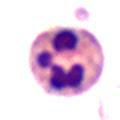neutrophil: (27, 23, 111, 98)
